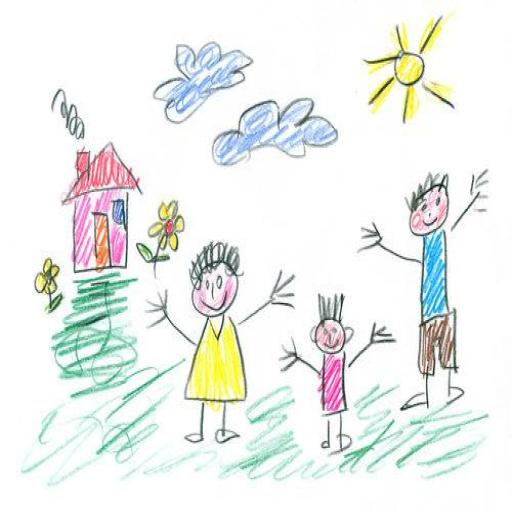person: (356, 164, 490, 412), (144, 239, 299, 448), (274, 288, 398, 458)
